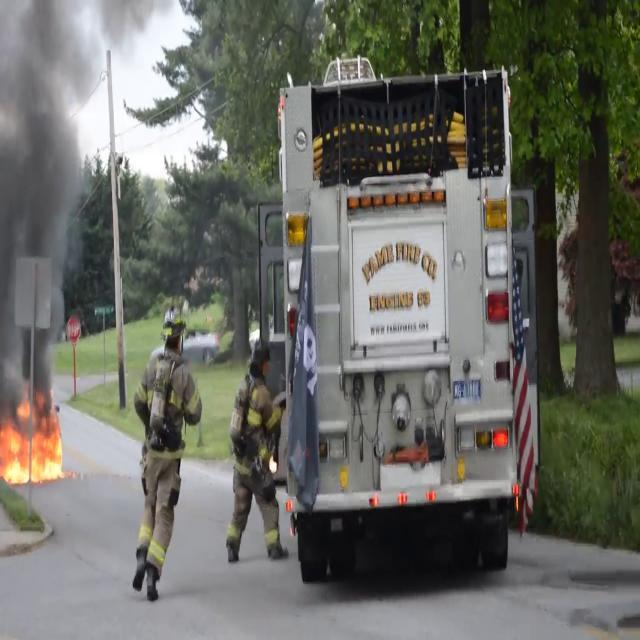Fire: (0, 402, 66, 488)
Smoke: (0, 0, 92, 411)
